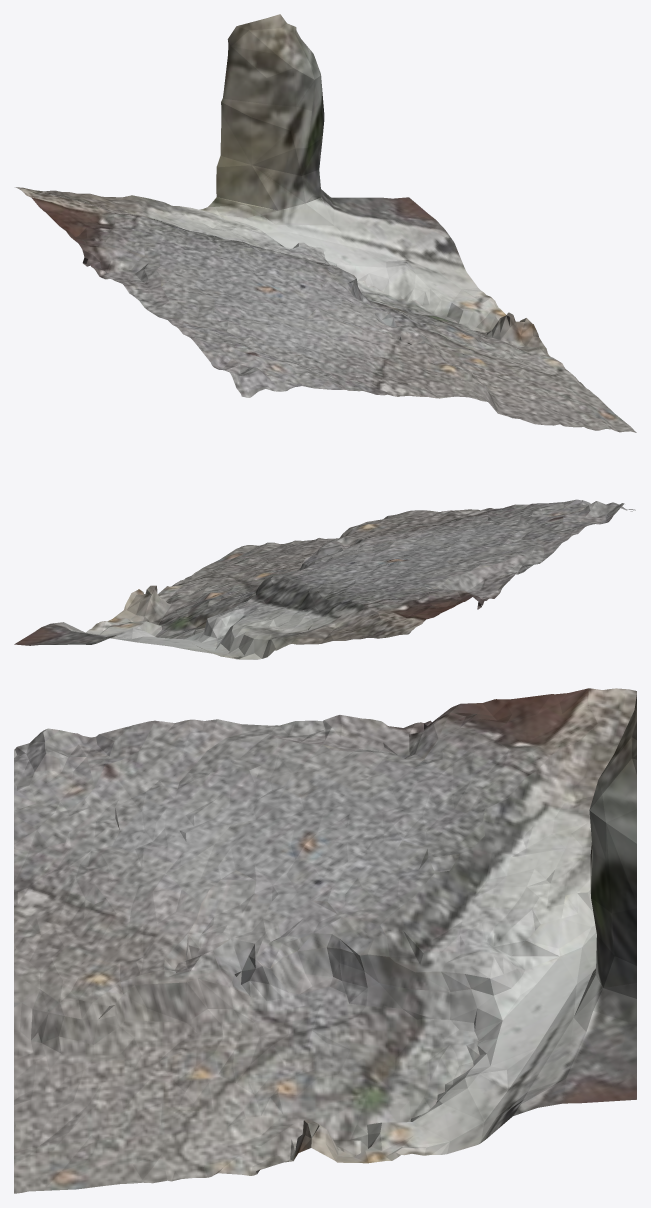
3 renders of one model, top to bottom at view 1: azimuth 30°, elevation 25°; view 2: azimuth 150°, elevation 25°; view 3: azimuth 270°, elevation 25°, orthographic. The views are drawn at different scales.
Bounding box in the file's own units: 1.67 × 1.15 × 1.67.
3 materials, 3 textured.
